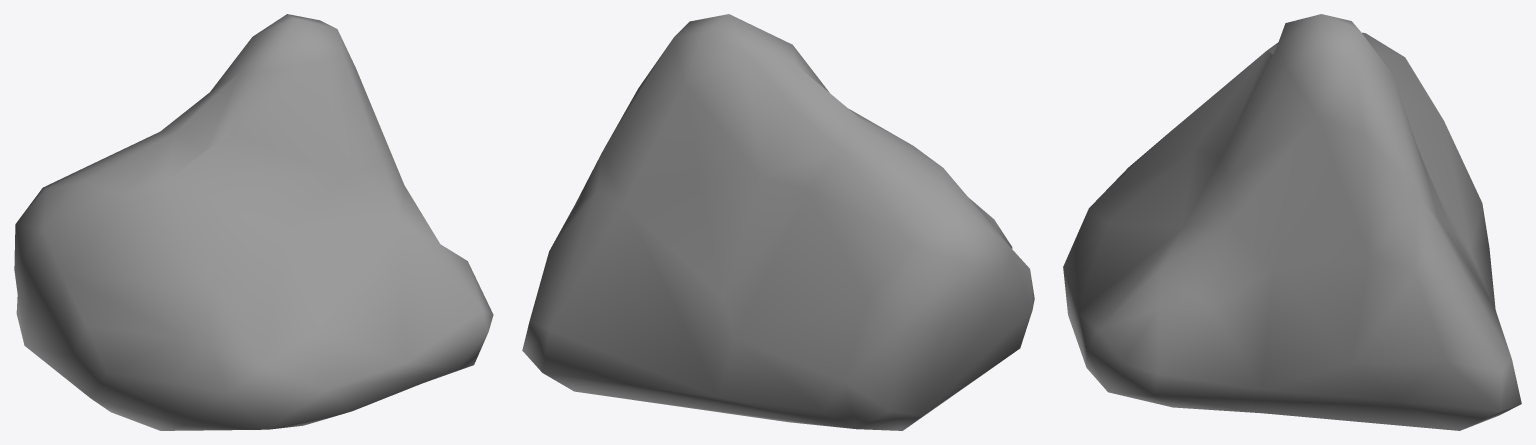
Rendered from SoftRock_14.fbx.
3 views of the same model, side by side, from view 1: azimuth 30°, elevation 25°; view 2: azimuth 150°, elevation 25°; view 3: azimuth 270°, elevation 25° (orthographic). The views are drawn at different scales.
Parts seen in each view (by area): view 1: SoftRock_14; view 2: SoftRock_14; view 3: SoftRock_14.
Boxes of the visible parts, left/top/right/bottom form: SoftRock_14: left=14, top=14, right=493, bottom=430; SoftRock_14: left=522, top=14, right=1034, bottom=430; SoftRock_14: left=1063, top=14, right=1521, bottom=430.
Bounding box in the file's own units: 94.44 × 76.13 × 85.84.
